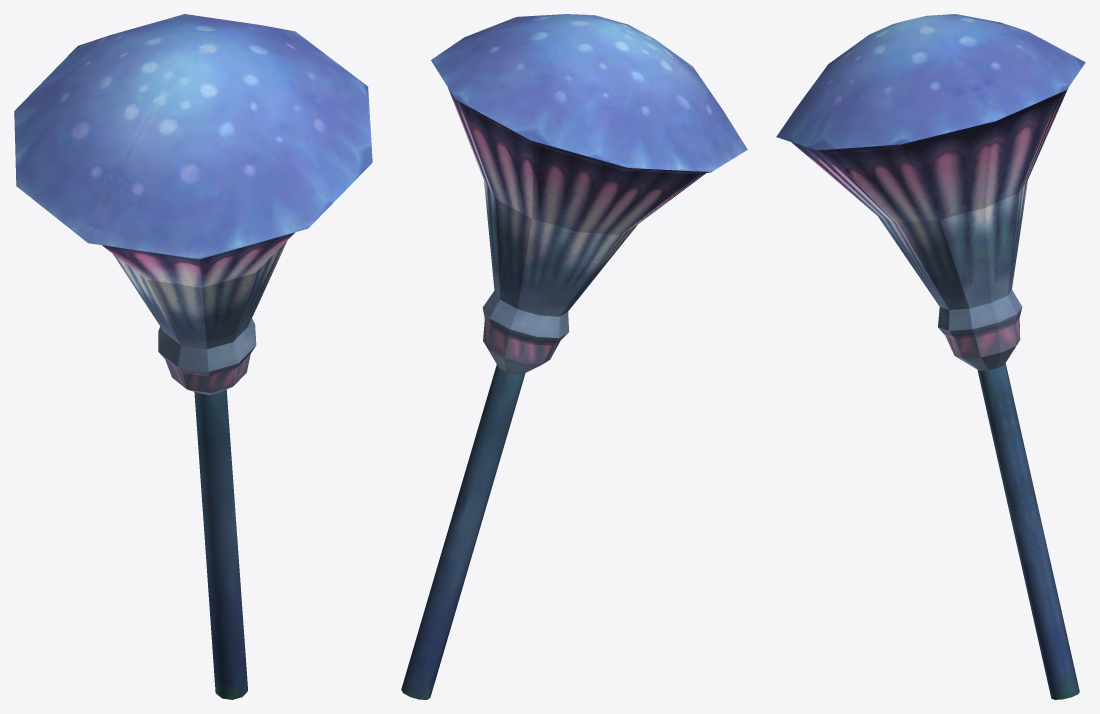
File: gonghui_mogu_02 (8).fbx
3 views of the same model, side by side, from view 1: azimuth 30°, elevation 25°; view 2: azimuth 150°, elevation 25°; view 3: azimuth 270°, elevation 25° (orthographic). The views are drawn at different scales.
Parts seen in each view (by area): view 1: gonghui_mogu_02 (8); view 2: gonghui_mogu_02 (8); view 3: gonghui_mogu_02 (8).
Boxes of the visible parts, x1,y1,x2,y2 form: gonghui_mogu_02 (8): (14, 14, 372, 699); gonghui_mogu_02 (8): (401, 14, 747, 699); gonghui_mogu_02 (8): (776, 14, 1085, 699).
Size of the model in its own units: 0.417 by 0.9227 by 0.4132.
